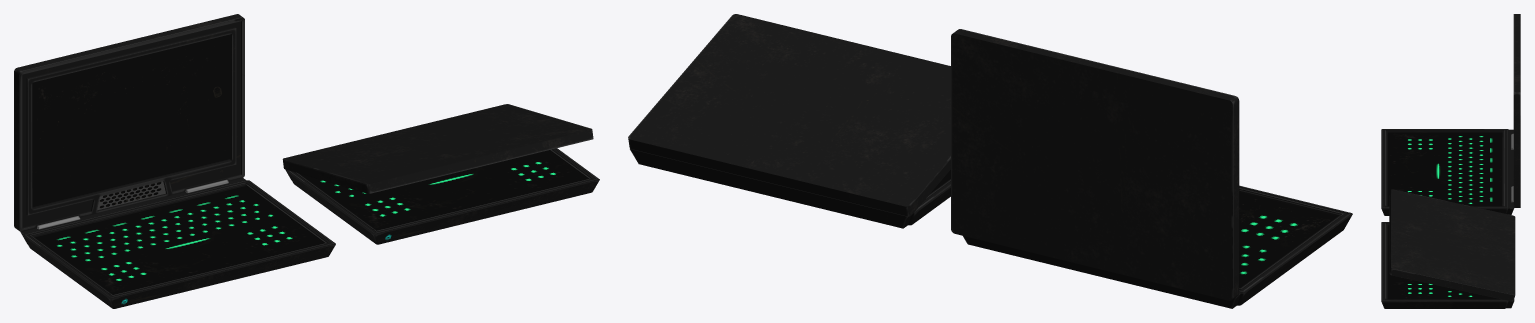
The picture shows the model from 3 angles, left to right: view 1: azimuth 30°, elevation 25°; view 2: azimuth 150°, elevation 25°; view 3: azimuth 270°, elevation 25°; orthographic projection. The views are drawn at different scales.
Parts seen in each view (by area): view 1: Screen, Keyboard, Screen.002, Keyboard.002, Connector; view 2: Screen, Screen.002, Keyboard, Keyboard.002; view 3: Screen.002, Keyboard, Keyboard.002, Screen.
Boxes of the visible parts, x1,y1,x2,y2 form: Screen: (14,14,244,231); Keyboard: (20,178,335,308); Screen.002: (282,104,593,193); Keyboard.002: (285,148,599,244); Connector: (37,179,228,229); Screen: (951,29,1239,300); Screen.002: (628,14,950,216); Keyboard: (963,185,1352,308); Keyboard.002: (630,148,950,228); Screen.002: (1389,189,1515,301); Keyboard: (1381,129,1514,215); Keyboard.002: (1381,222,1514,308); Screen: (1513,14,1520,207).
Size of the model in its own units: 4.33 by 1.46 by 1.48.
1 material, 1 textured.
